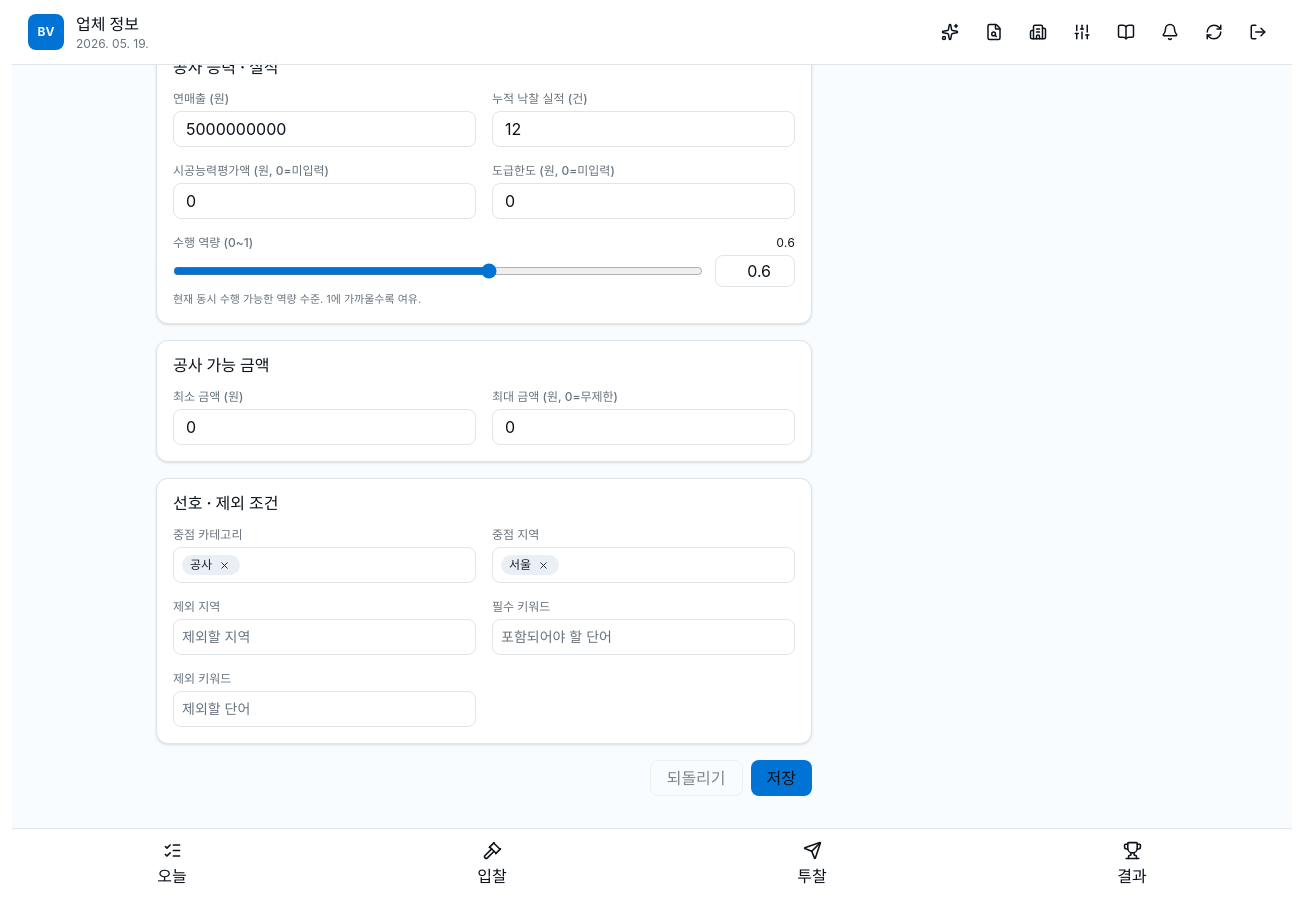
CompanyInfoEditor › 두 mutation 중 strategy 저장이 실패하면 danger toast로 표시한다
(page scrolled)
Click the button "저장" at (781, 778), box [750, 760, 812, 796]
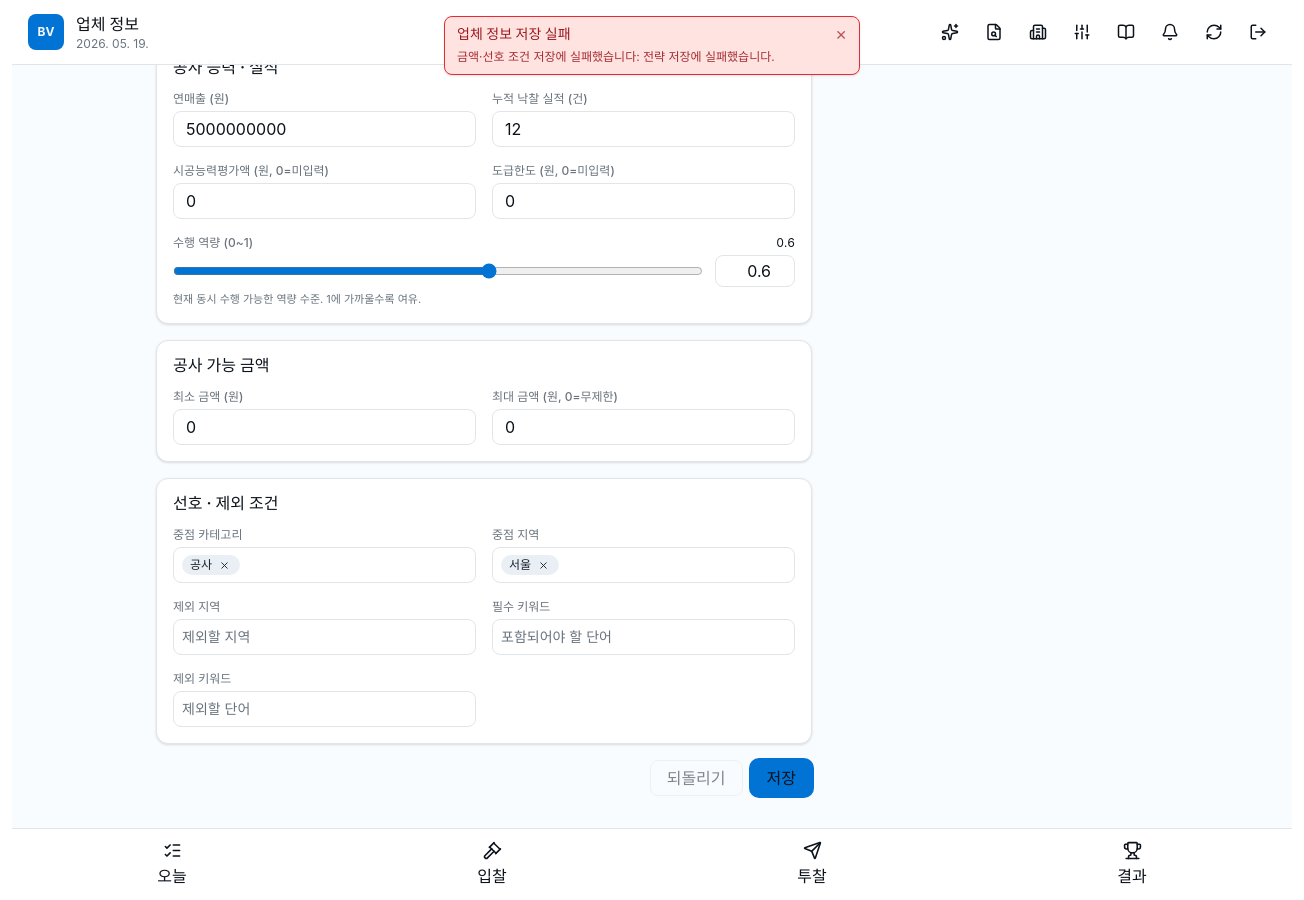
Check: the text "업체 정보 저장 실패" is shown, box [457, 25, 571, 42]
